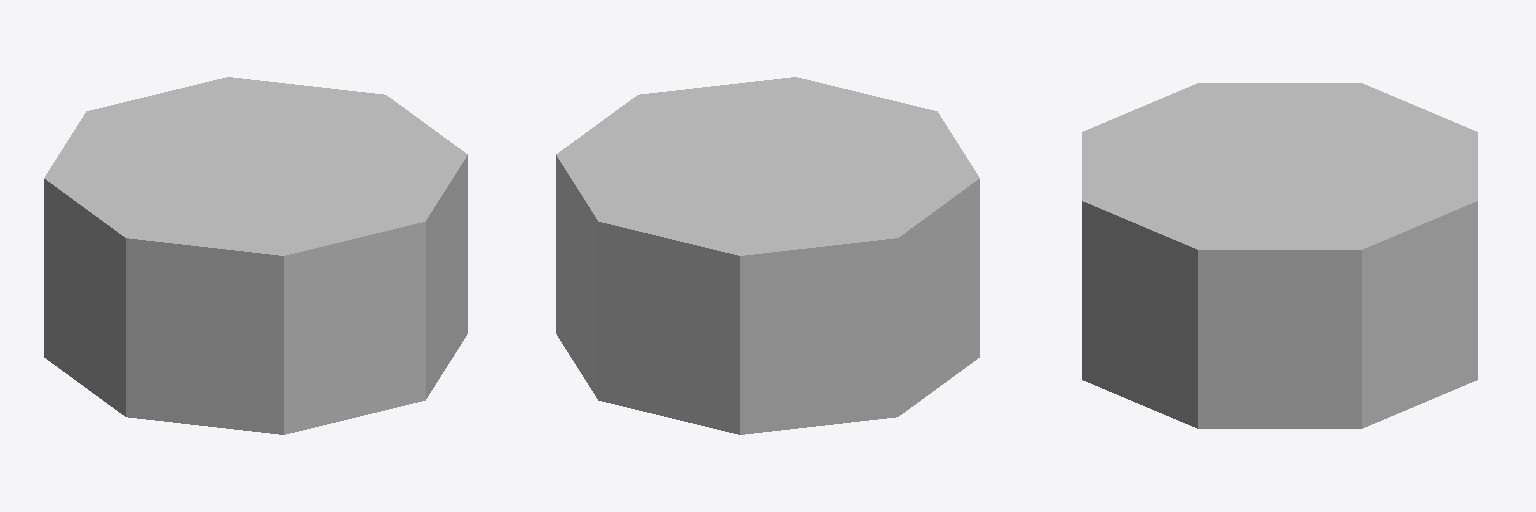
Rendered from model_item.obj.
3 views of the same model, side by side, from view 1: azimuth 30°, elevation 25°; view 2: azimuth 150°, elevation 25°; view 3: azimuth 270°, elevation 25° (orthographic).
Visible parts, largest first — view 1: cylinder; view 2: cylinder; view 3: cylinder.
Part boxes in pixels (left/top/right/bottom): cylinder: left=44, top=77, right=467, bottom=434; cylinder: left=556, top=77, right=979, bottom=434; cylinder: left=1082, top=83, right=1477, bottom=428.
Bounding box in the file's own units: 1.25 × 0.625 × 1.25.